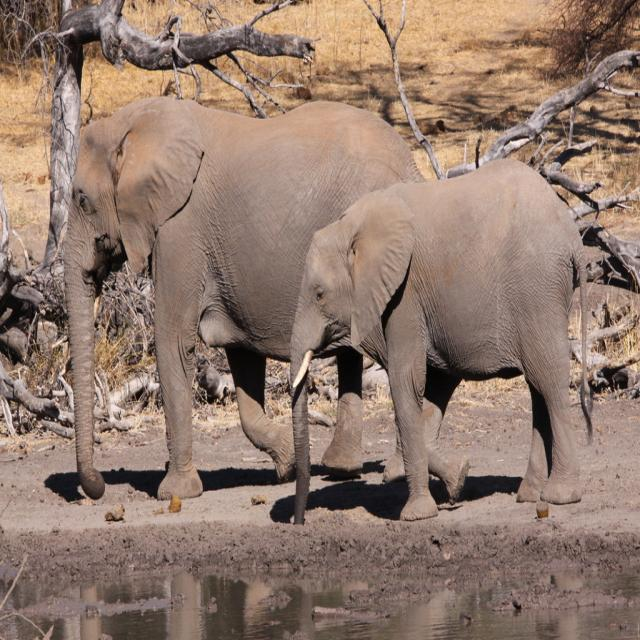elephant: (26, 91, 377, 501), (286, 154, 592, 523)
